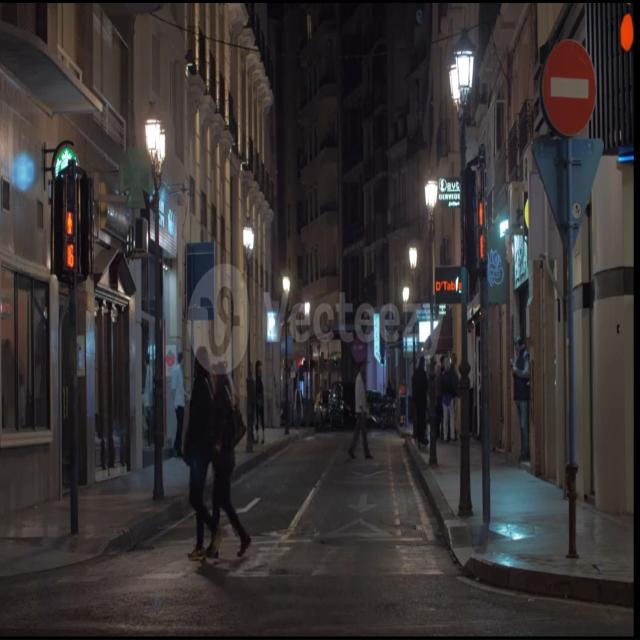pedestrian: (206, 364, 251, 556), (183, 347, 217, 559)
